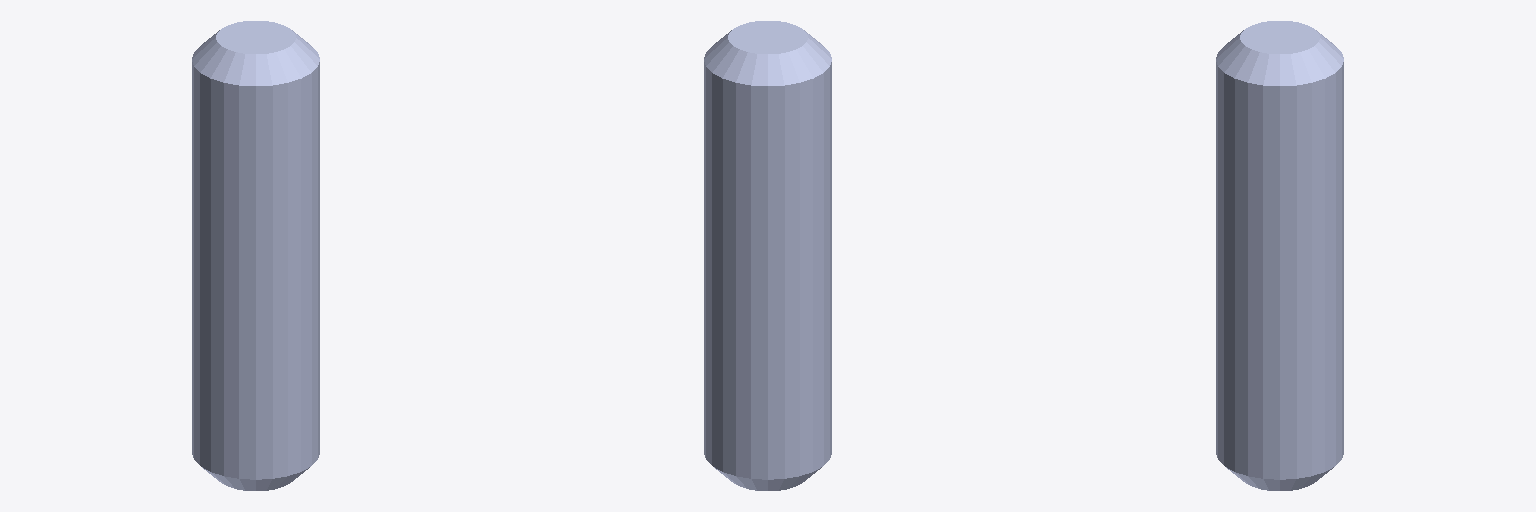
The robot description file, URDF, robot "101350.SLDPRT":
<?xml version="1.0" encoding="utf-8"?>
<!-- This URDF was automatically created by SolidWorks to URDF Exporter! Originally created by [author] ([email redacted]) 
     Commit Version: 1.5.1-0-g916b5db  Build Version: 1.5.7152.31018
     For more information, please see http://wiki.ros.org/sw_urdf_exporter -->
<robot
  name="101350.SLDPRT">
  <link
    name="101350.SLDPRT">
    <inertial>
      <origin
        xyz="-1.0658E-19 1.02479476536678E-18 0.015"
        rpy="-1.5707963267949 0 0" />
      <mass
        value="0.0014585" />
      <inertia
        ixx="1.0843E-07"
        ixy="-5.9762E-25"
        ixz="-5.31224624585665E-41"
        iyy="1.1439E-08"
        iyz="5.93878974317931E-24"
        izz="1.0843E-07" />
    </inertial>
    <visual>
      <origin
        xyz="0 0 0"
        rpy="0 0 0" />
      <geometry>
        <mesh
          filename="package://object_description/chair_meshes/101350.SLDPRT.STL" />
      </geometry>
      <material
        name="">
        <color
          rgba="0.79216 0.81961 0.93333 1" />
        <texture
          filename="package://object_description/textures/" />
      </material>
    </visual>
    <collision>
      <origin
        xyz="0 0 0"
        rpy="0 0 0" />
      <geometry>
        <mesh
          filename="package://object_description/chair_meshes/101350.SLDPRT.STL" />
      </geometry>
    </collision>
  </link>
	<gazebo reference="101350.SLDPRT">
    <material>Gazebo/Wood</material>
    <kp>100000.0</kp>
    <kd>1.0</kd>
    <mu1>100000</mu1>
    <mu2>100000</mu2>
    <maxVel>0</maxVel>
    <minDepth>0.00</minDepth>
  </gazebo>
</robot>

--- Facts derived from the render (not from the file) ---
3 views of the same robot in one strip: view 1: azimuth 30°, elevation 25°; view 2: azimuth 150°, elevation 25°; view 3: azimuth 270°, elevation 25° (orthographic).
Model 101350.SLDPRT with 1 links and 0 joints (none), rooted at 101350.SLDPRT, posed every joint at zero.
Links seen in each view (by area): view 1: 101350.SLDPRT; view 2: 101350.SLDPRT; view 3: 101350.SLDPRT.
Boxes of the visible links, <box> form: 101350.SLDPRT: <box>192,21,319,490</box>; 101350.SLDPRT: <box>704,21,831,490</box>; 101350.SLDPRT: <box>1216,21,1343,490</box>.
Size in the robot's own frame: 0.008 by 0.008 by 0.03 metres.
1 mesh visuals loaded from 1 distinct referenced files (1 binary STL).
